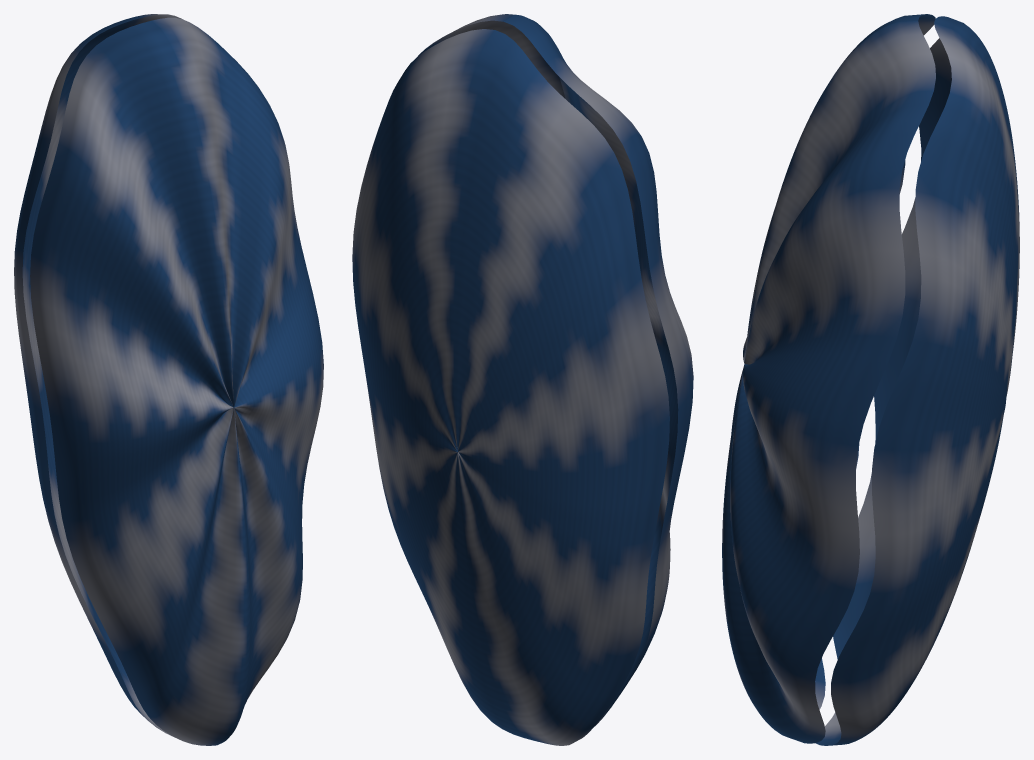
File: blue-mussel.glb
3 views of the same model, side by side, from view 1: azimuth 30°, elevation 25°; view 2: azimuth 150°, elevation 25°; view 3: azimuth 270°, elevation 25° (orthographic). The views are drawn at different scales.
Parts seen in each view (by area): view 1: blue-mussel; view 2: blue-mussel; view 3: blue-mussel.
Part boxes in pixels (left/top/right/bottom): blue-mussel: left=14, top=14, right=323, bottom=745; blue-mussel: left=352, top=14, right=693, bottom=745; blue-mussel: left=722, top=14, right=1019, bottom=745.
Size of the model in its own units: 0.9635 by 2.39 by 0.8953.
